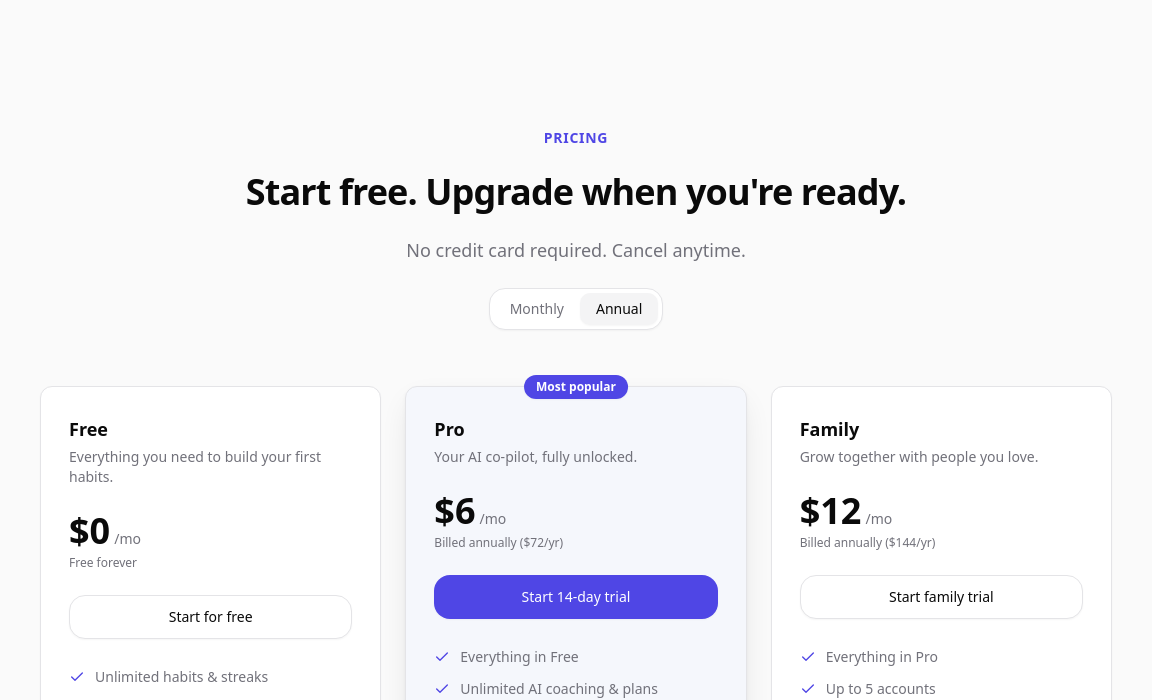
Test: PricingSection › shows the network error when billing is unreachable
What coordinates should you click on to do the following:
click the button "Start family trial"
I would click on:
 (941, 597)
Its box is [800, 575, 1083, 619].
(page scrolled)
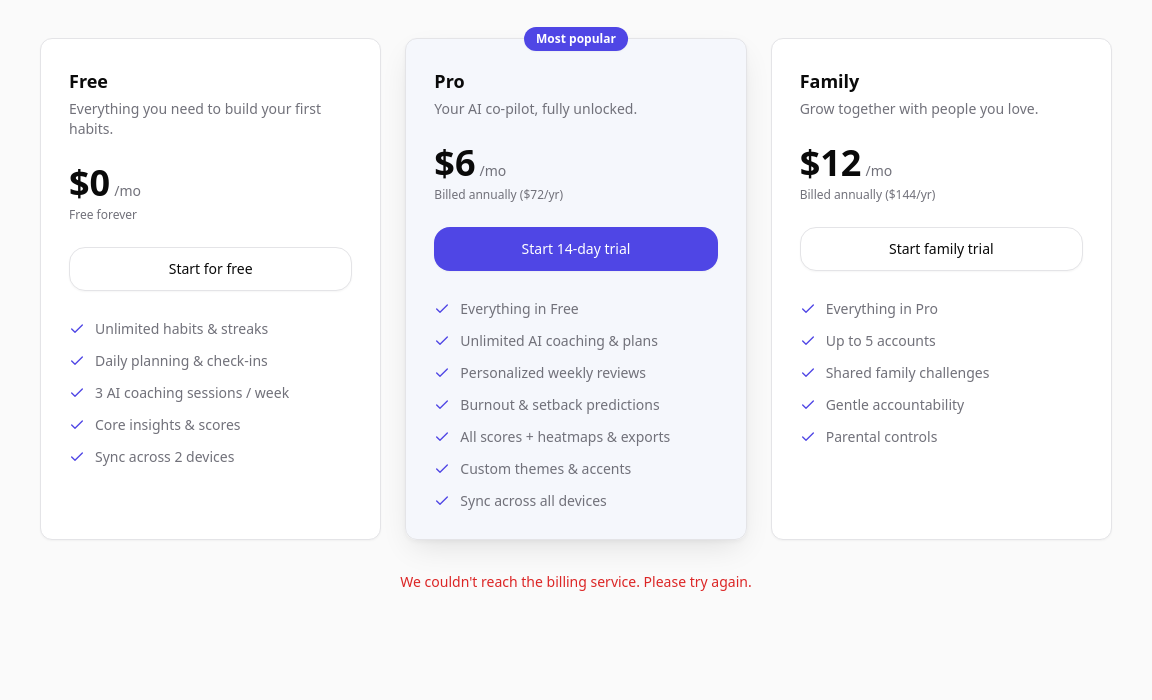
expect the text "We couldn't reach the billing service. Please try again." is shown: met, box [400, 572, 752, 591]
